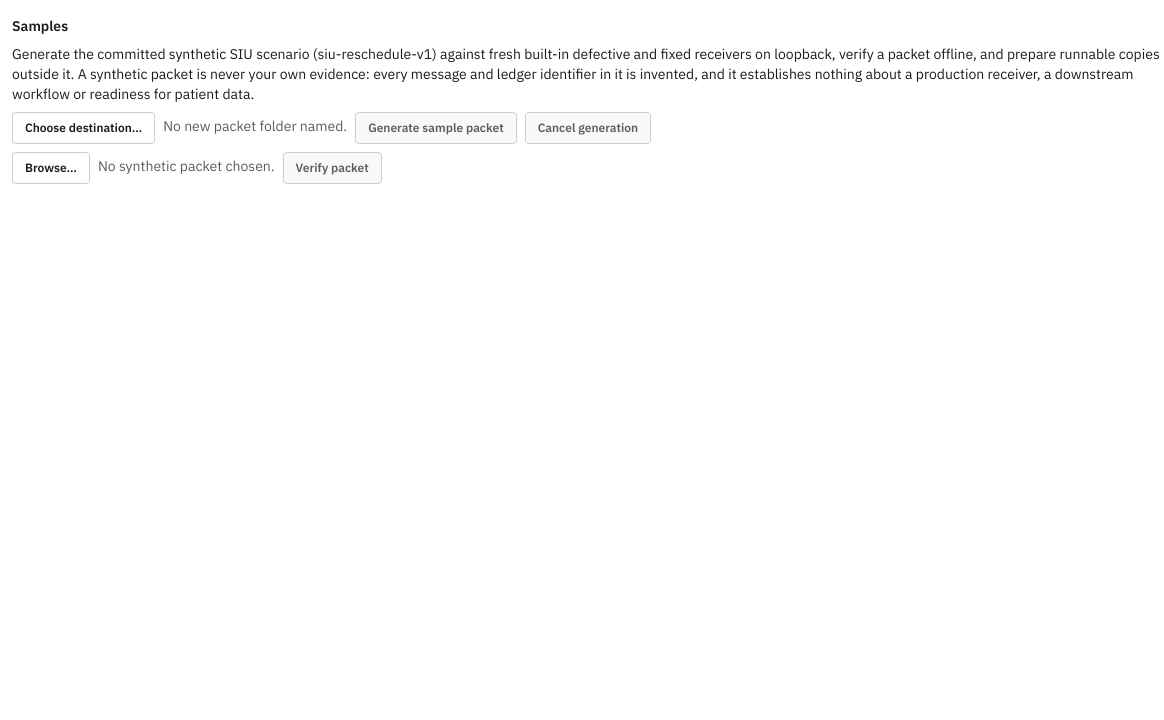
Test case: a synthetic packet is generated into a newly named folder, read back as verified and labelled synthetic, never as your own evidence
Expected: the button "Generate sample packet" is disabled, [355,112,517,144]
Expected: the text "No new packet folder named." is shown, [163,116,347,136]
Click the button "Choose destination…" at (84, 128), box [12,112,155,144]
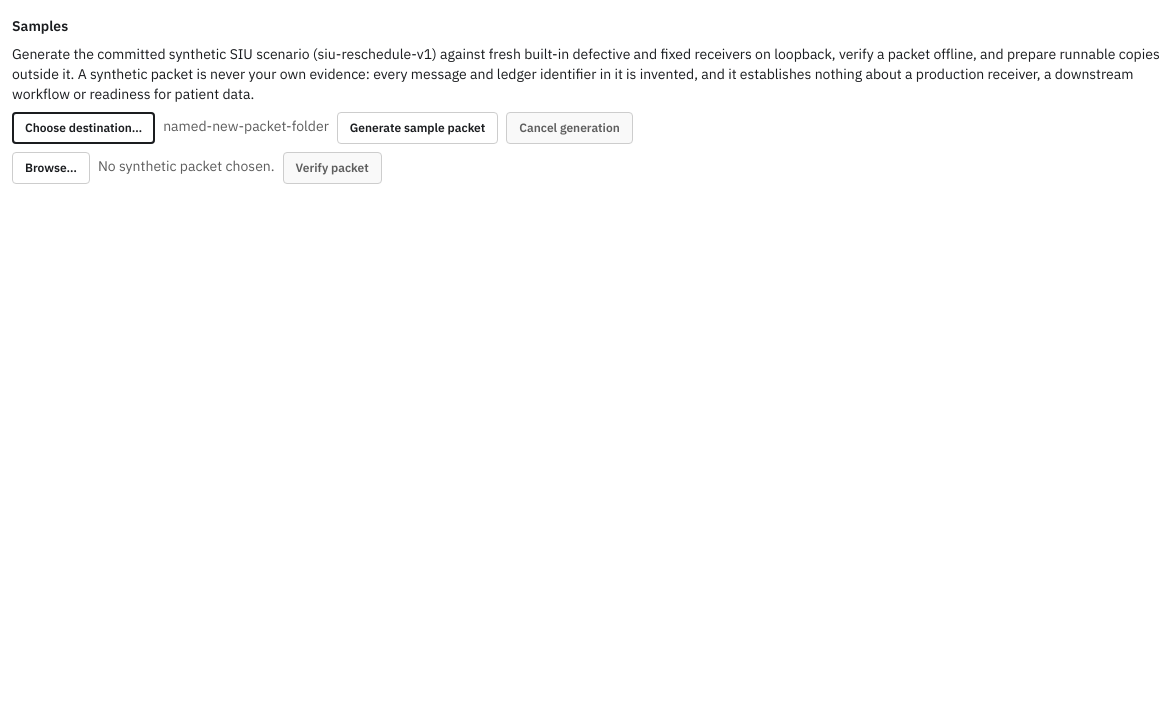
Now the text "named-new-packet-folder" is shown, box [163,116,329,136]
Click the button "Generate sample packet" at (418, 128), box [337,112,498,144]
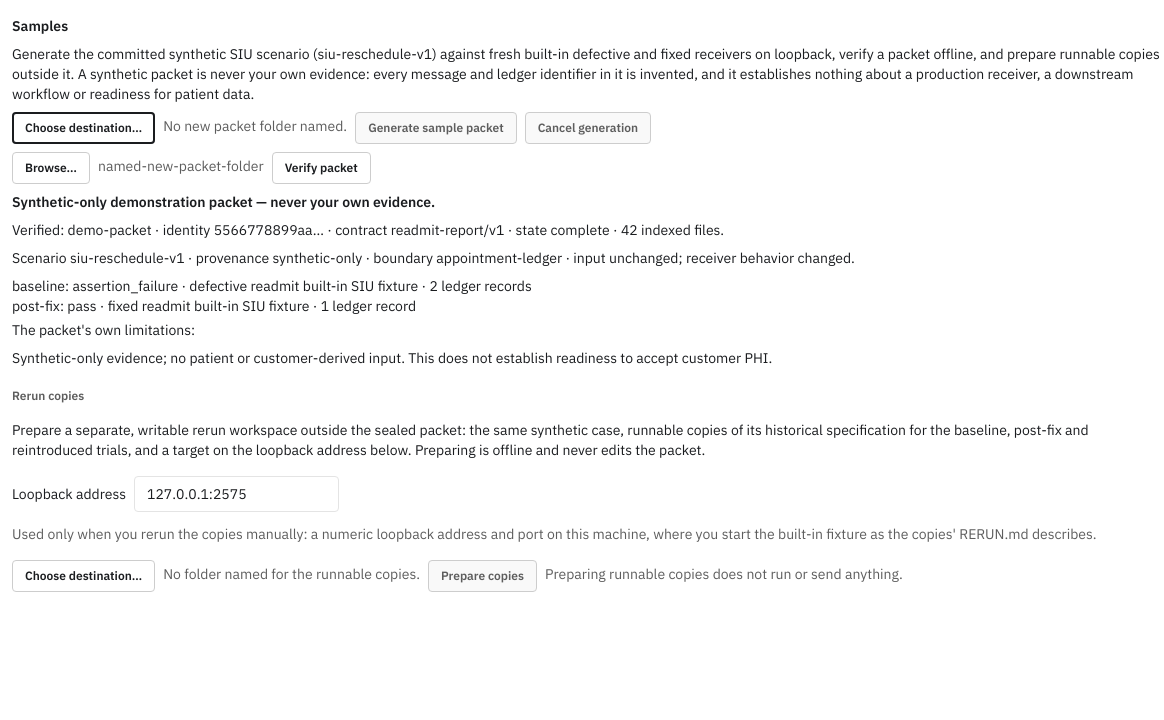
Now the text "Synthetic-only demonstration packet — never your own evidence." is shown, box [12,193,435,211]
Now the text "Verified: demo-packet · identity 5566778899aa… · contract readmit-report/v1 · state complete · 42 indexed files." is shown, box [12,221,724,239]
Now the text "Scenario siu-reschedule-v1 · provenance synthetic-only · boundary appointment-ledger · input unchanged; receiver behavio" is shown, box [12,249,855,267]
